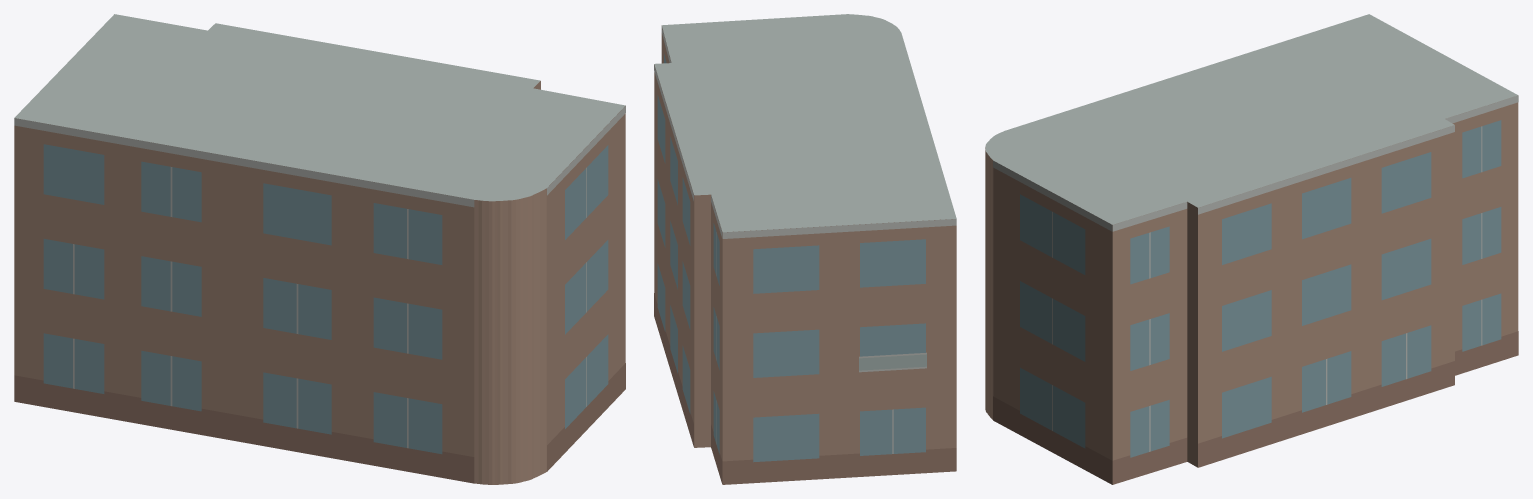
File: survey-upis-33010832.glb
The picture shows the model from 3 angles, left to right: view 1: azimuth 30°, elevation 25°; view 2: azimuth 150°, elevation 25°; view 3: azimuth 270°, elevation 25°; orthographic projection. The views are drawn at different scales.
Parts seen in each view (by area): view 1: survey-upis-33010832.tmp; view 2: survey-upis-33010832.tmp; view 3: survey-upis-33010832.tmp.
Boxes of the visible parts, bbox=[...] form: survey-upis-33010832.tmp: bbox=[14, 14, 625, 484]; survey-upis-33010832.tmp: bbox=[654, 14, 956, 484]; survey-upis-33010832.tmp: bbox=[985, 14, 1518, 484].
Bounding box in the file's own units: 15.89 × 9.13 × 16.97.
